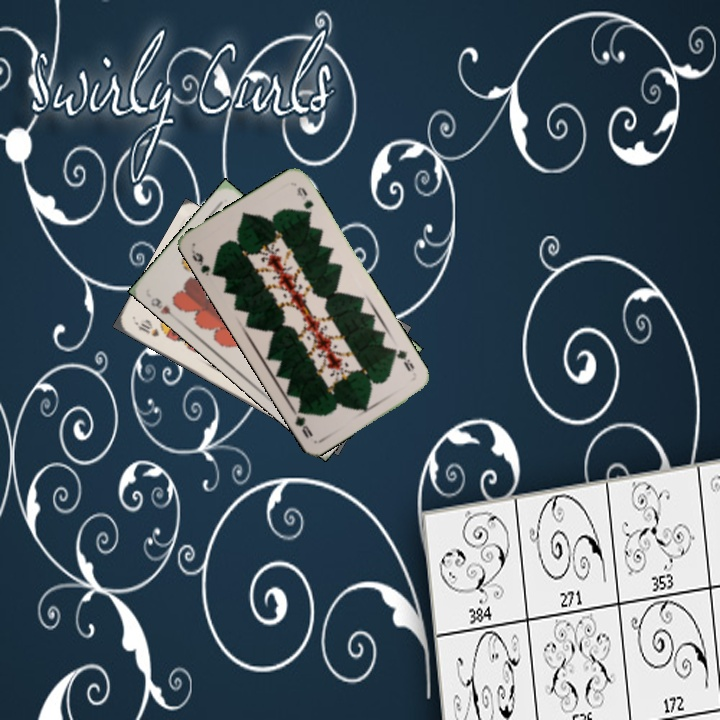G9: (187, 246, 219, 279), (387, 344, 417, 374)
H9: (148, 293, 179, 320)
S10: (131, 317, 162, 340)
